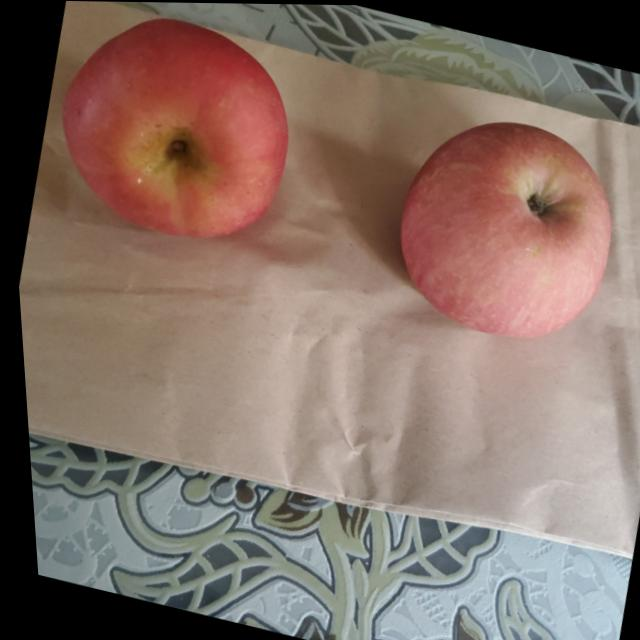apple: (33, 0, 311, 257), (370, 94, 630, 352)
